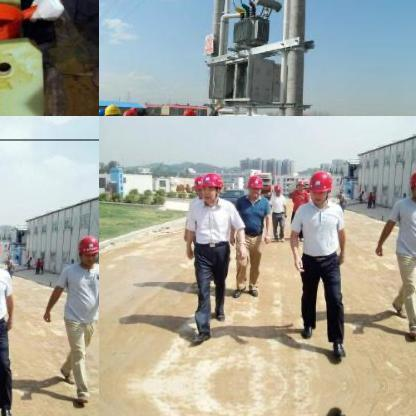Helmet: (305, 169, 333, 203), (72, 231, 98, 265), (199, 171, 222, 199), (245, 169, 264, 199), (404, 165, 415, 199), (193, 174, 205, 202), (100, 101, 121, 115), (180, 105, 199, 115), (272, 182, 282, 196), (294, 177, 304, 191), (121, 108, 137, 115)
